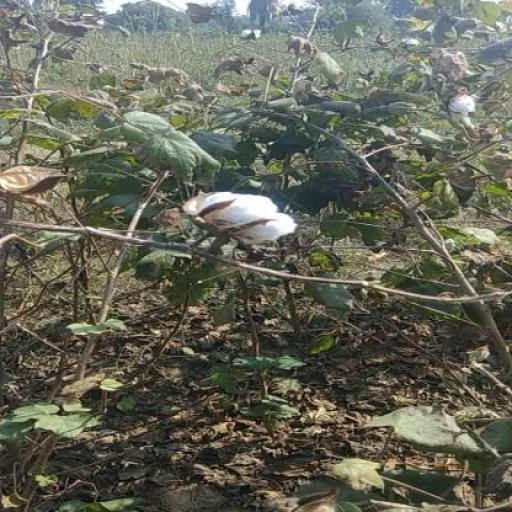cotton_ready: (170, 181, 316, 260)
